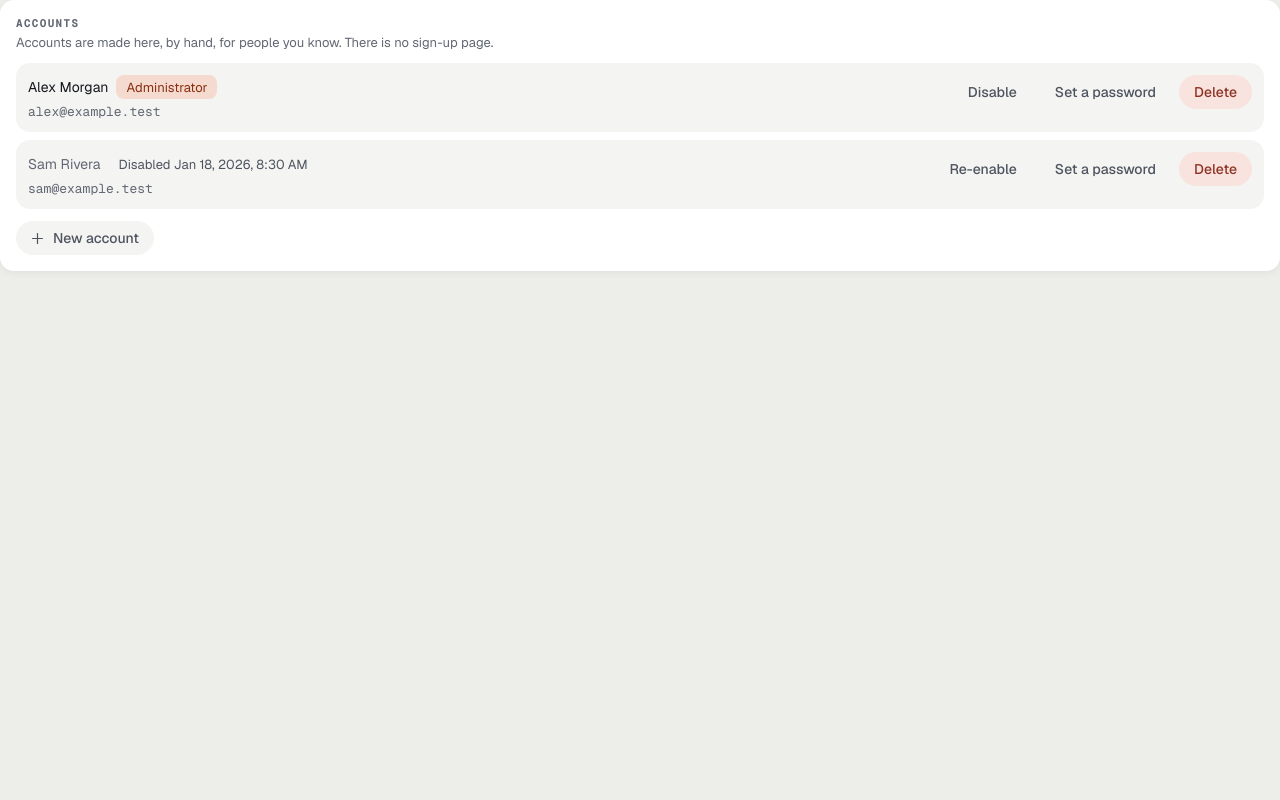
setting a password for somebody who is locked out (UI-37) › keeps the password out of the request when the API refuses it
Step 1. Click the button with aria-label "set a password for alex" → (1105, 92), box [1040,75,1171,109]
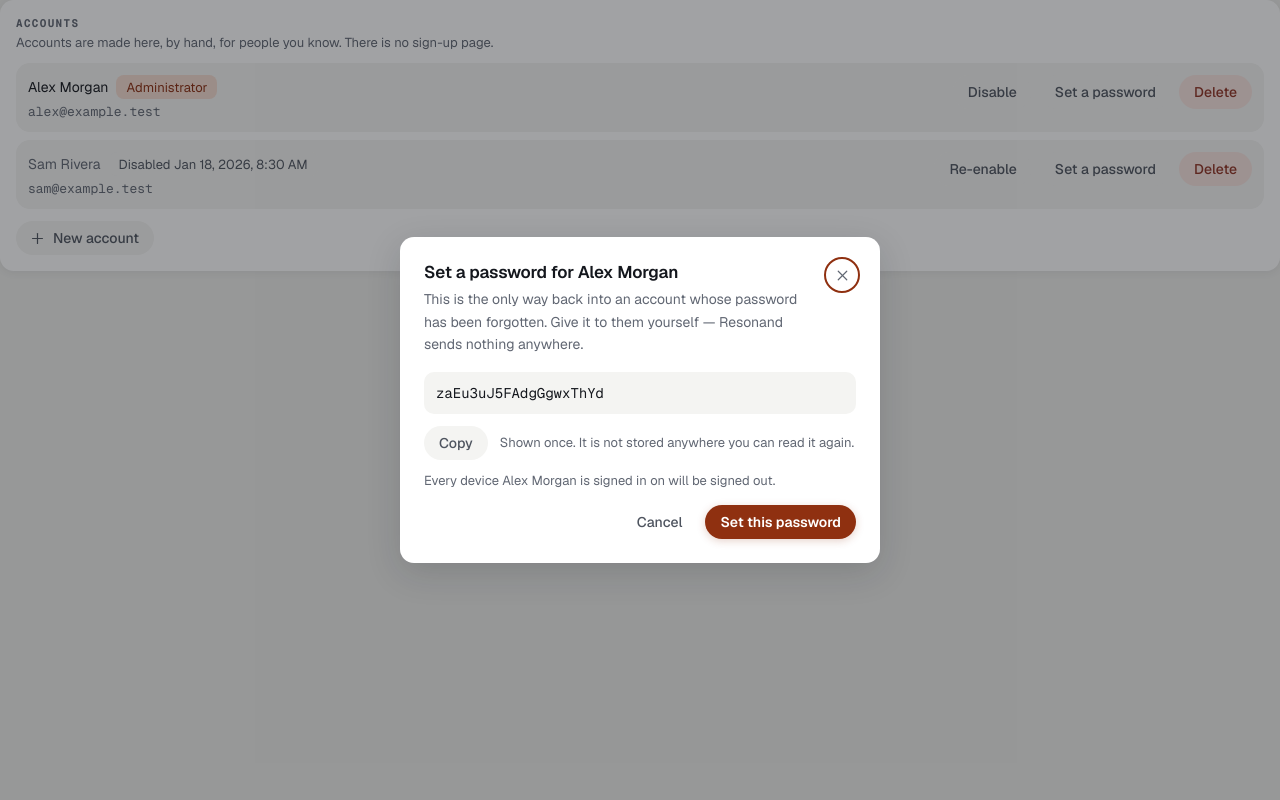
Step 2. Click the button "Set this password" → (781, 522), box [705,505,856,539]
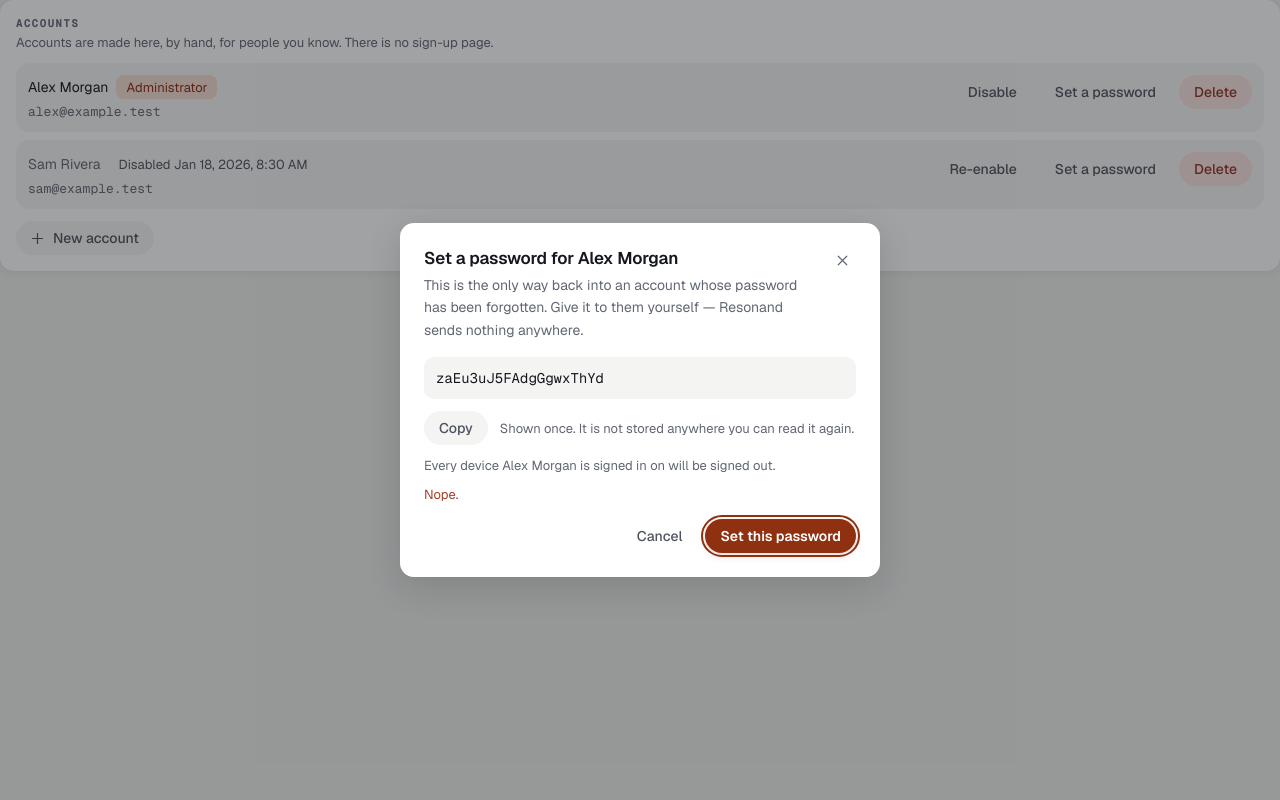
expect the message reads "Nope.": met, box [424,486,458,503]
